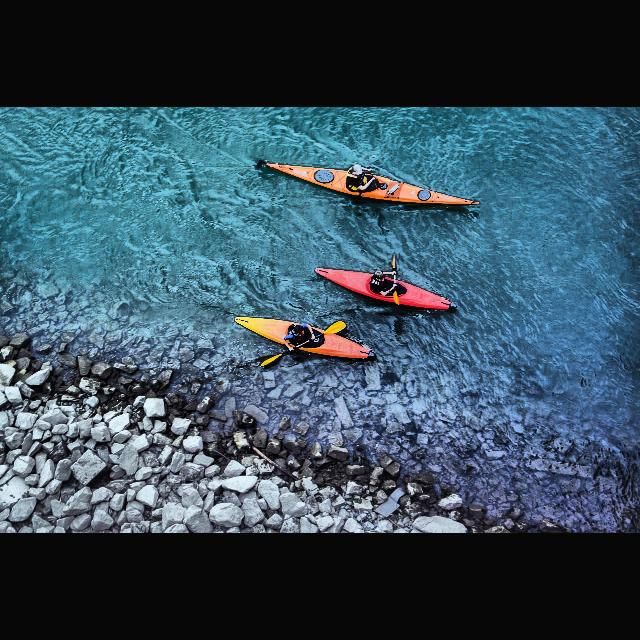kayak: (255, 157, 481, 209), (314, 266, 458, 312), (235, 316, 378, 362)
